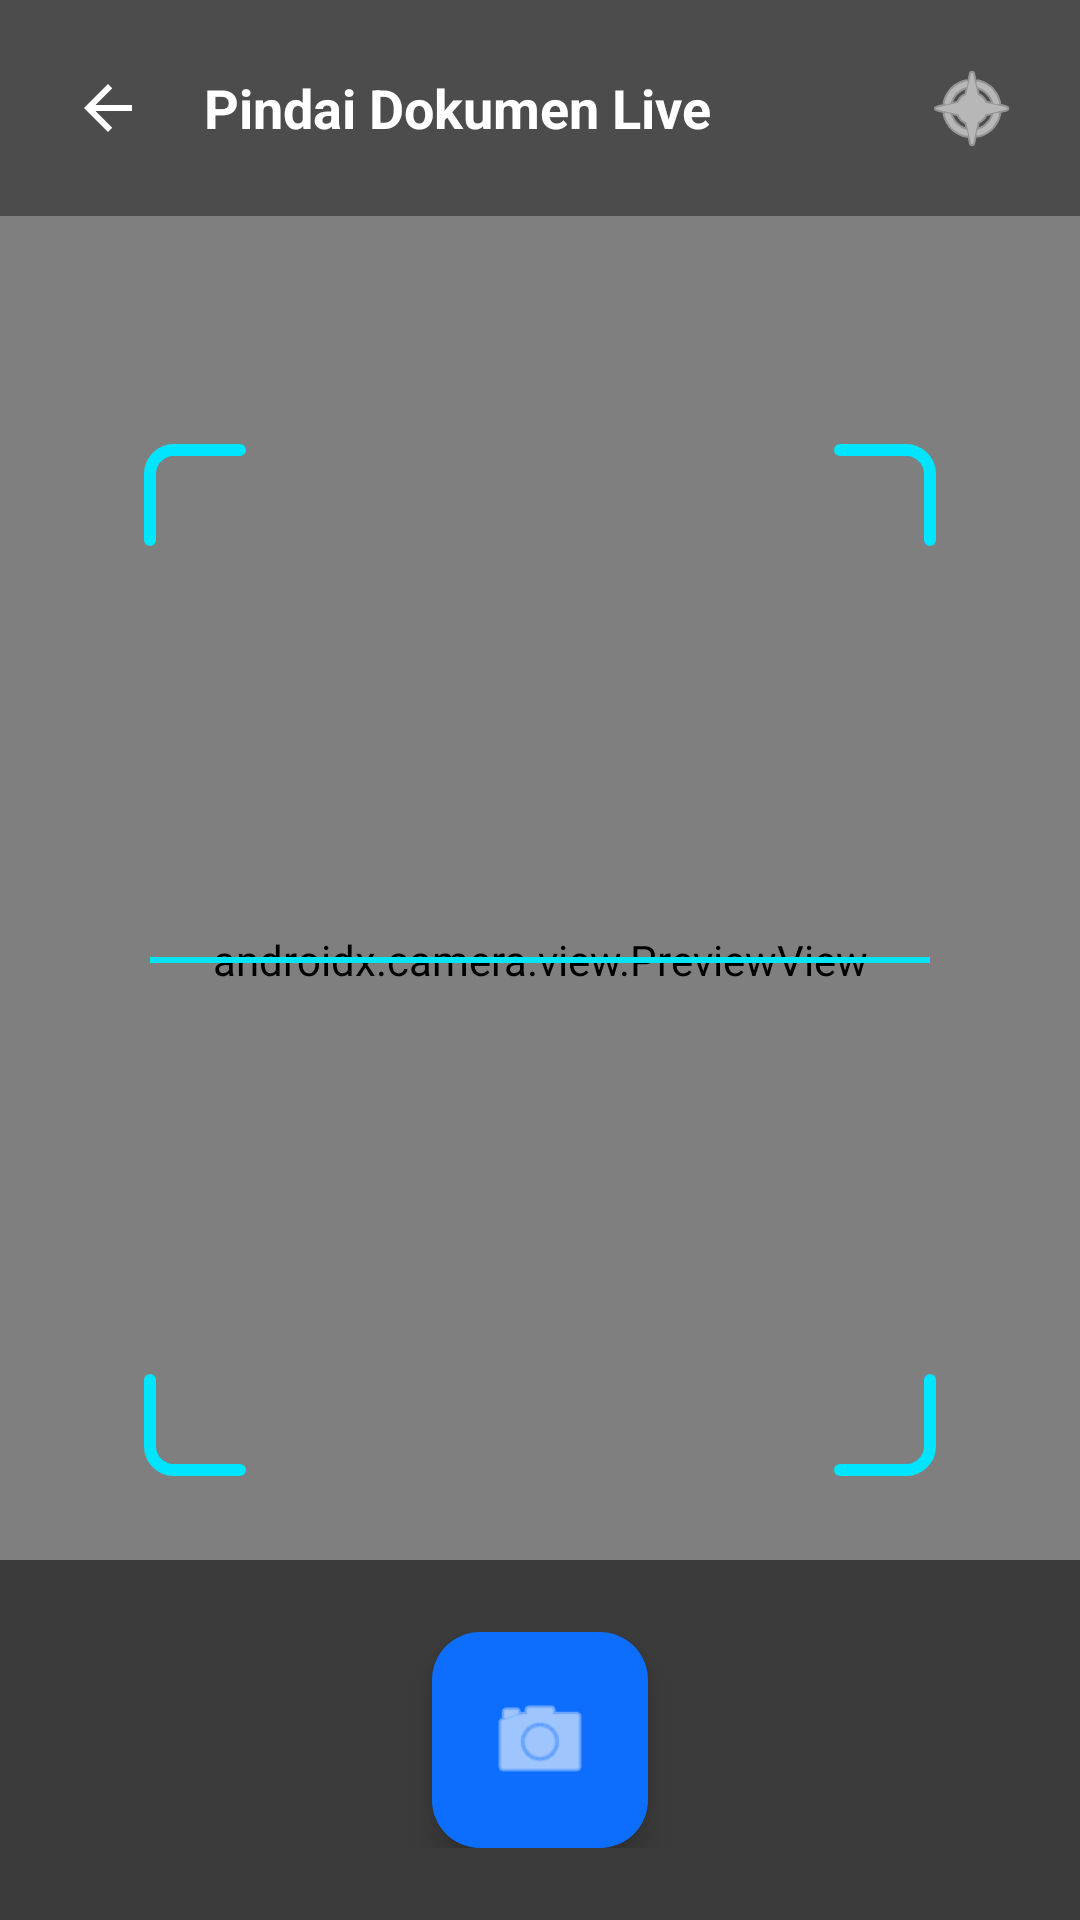

Screen size 1080x1920. Icon name, then its center in pixels as point (x, y):
arrow back: point (108, 108)
compass: point (971, 108)
